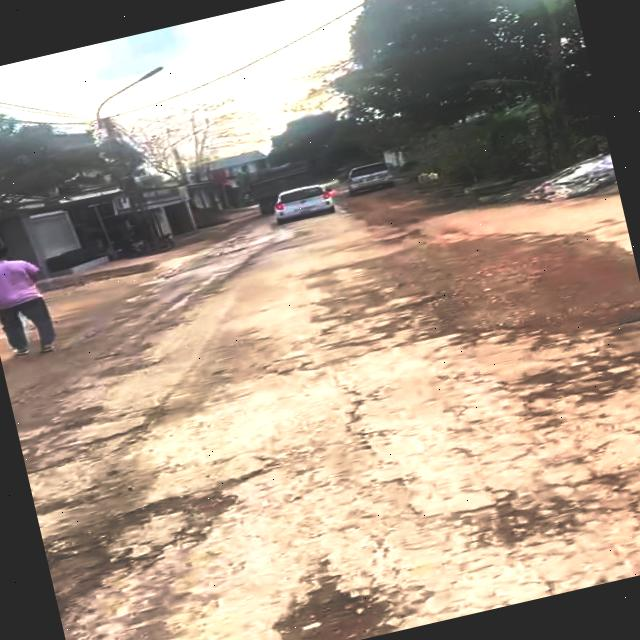pothole: (38, 478, 255, 598), (238, 549, 429, 640), (458, 473, 594, 557), (514, 342, 640, 417)
